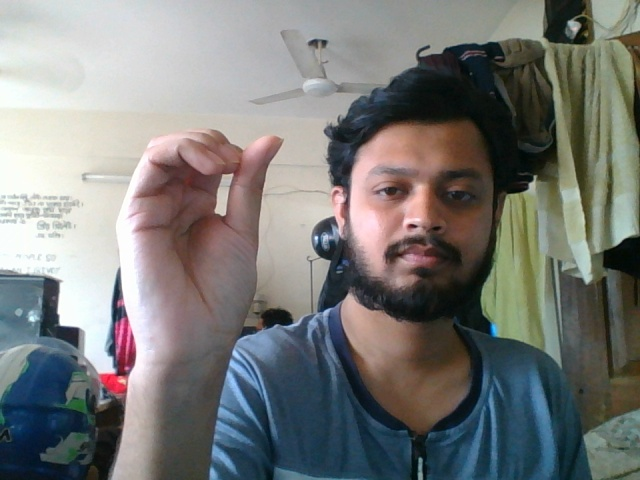ae: (109, 120, 285, 423)
